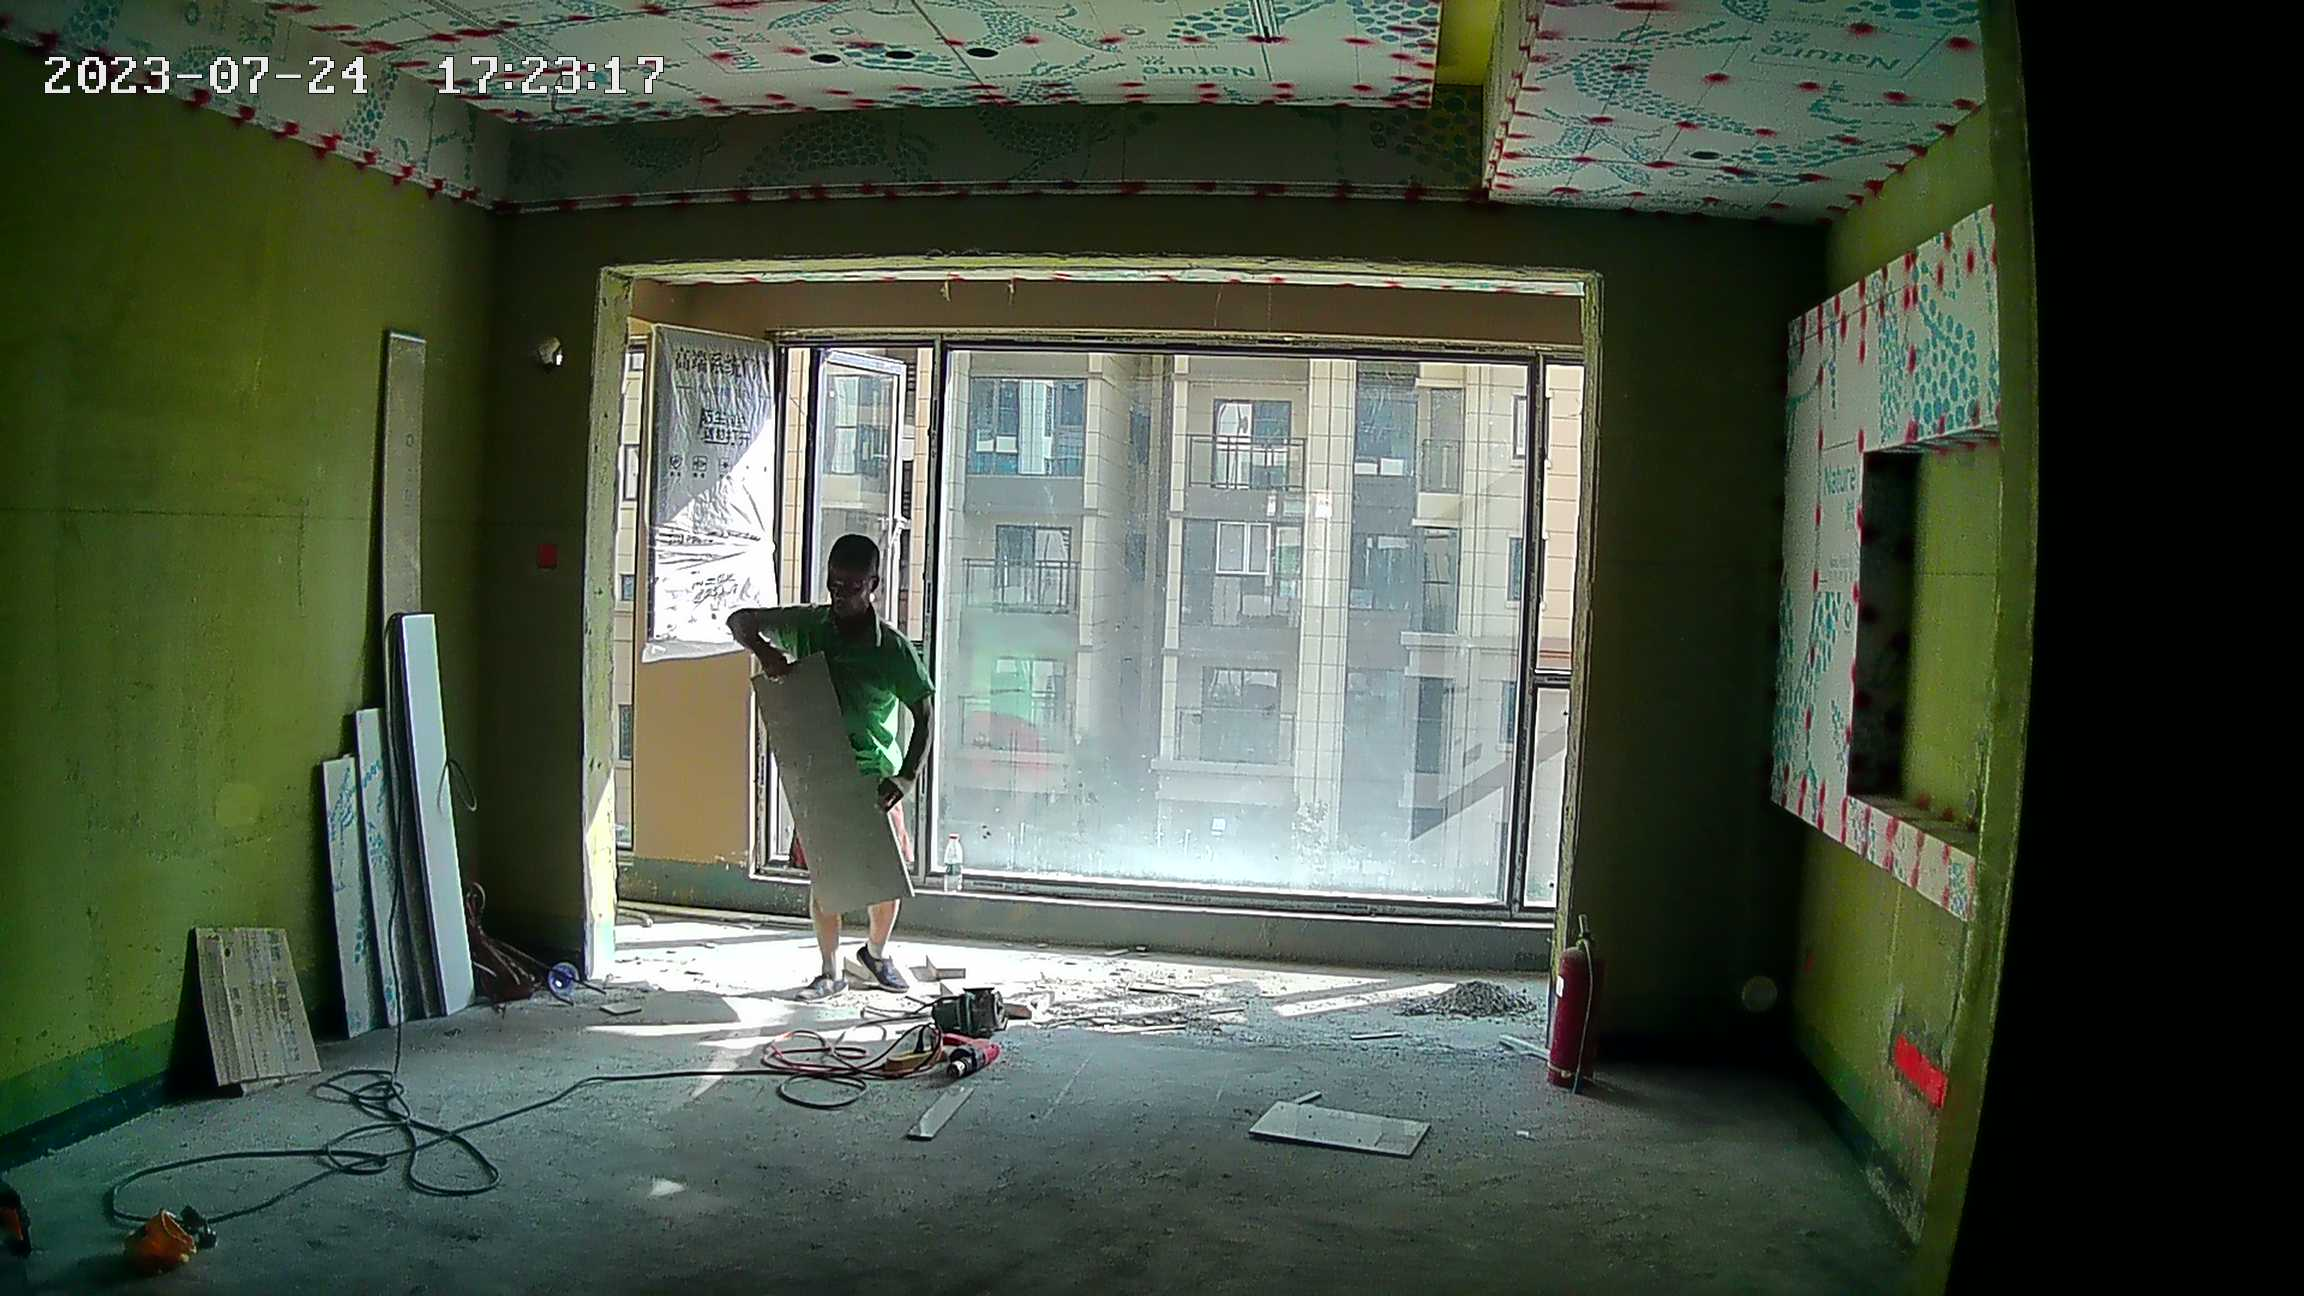people: (730, 535, 937, 991)
window: (782, 348, 1556, 911)
